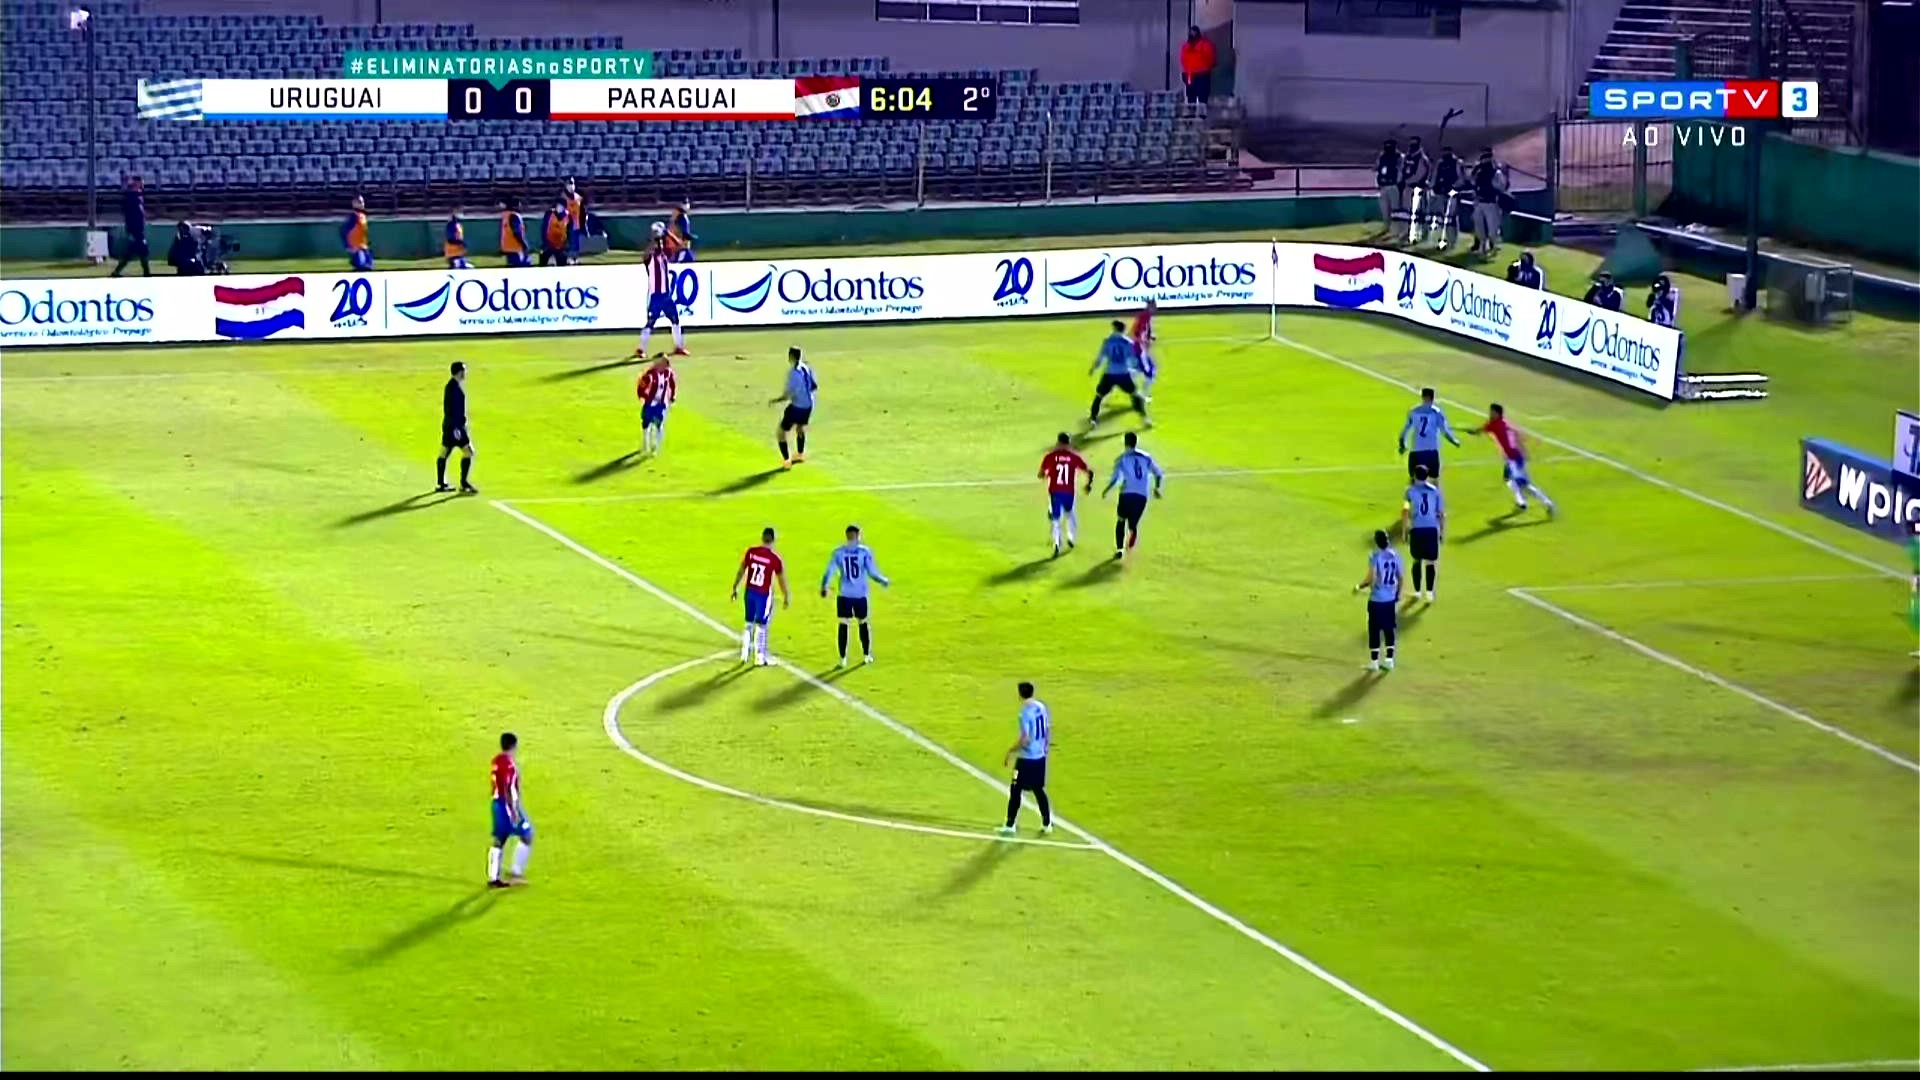SporTV3: (1588, 83, 1821, 119)
